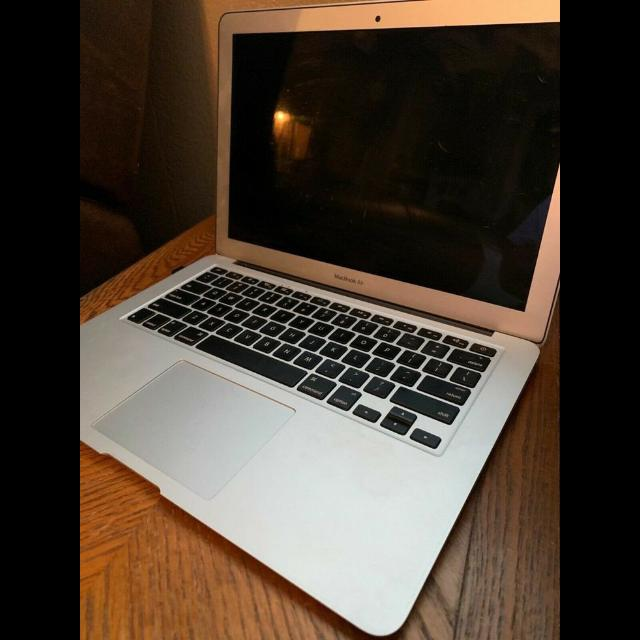laptop: (80, 0, 560, 635)
